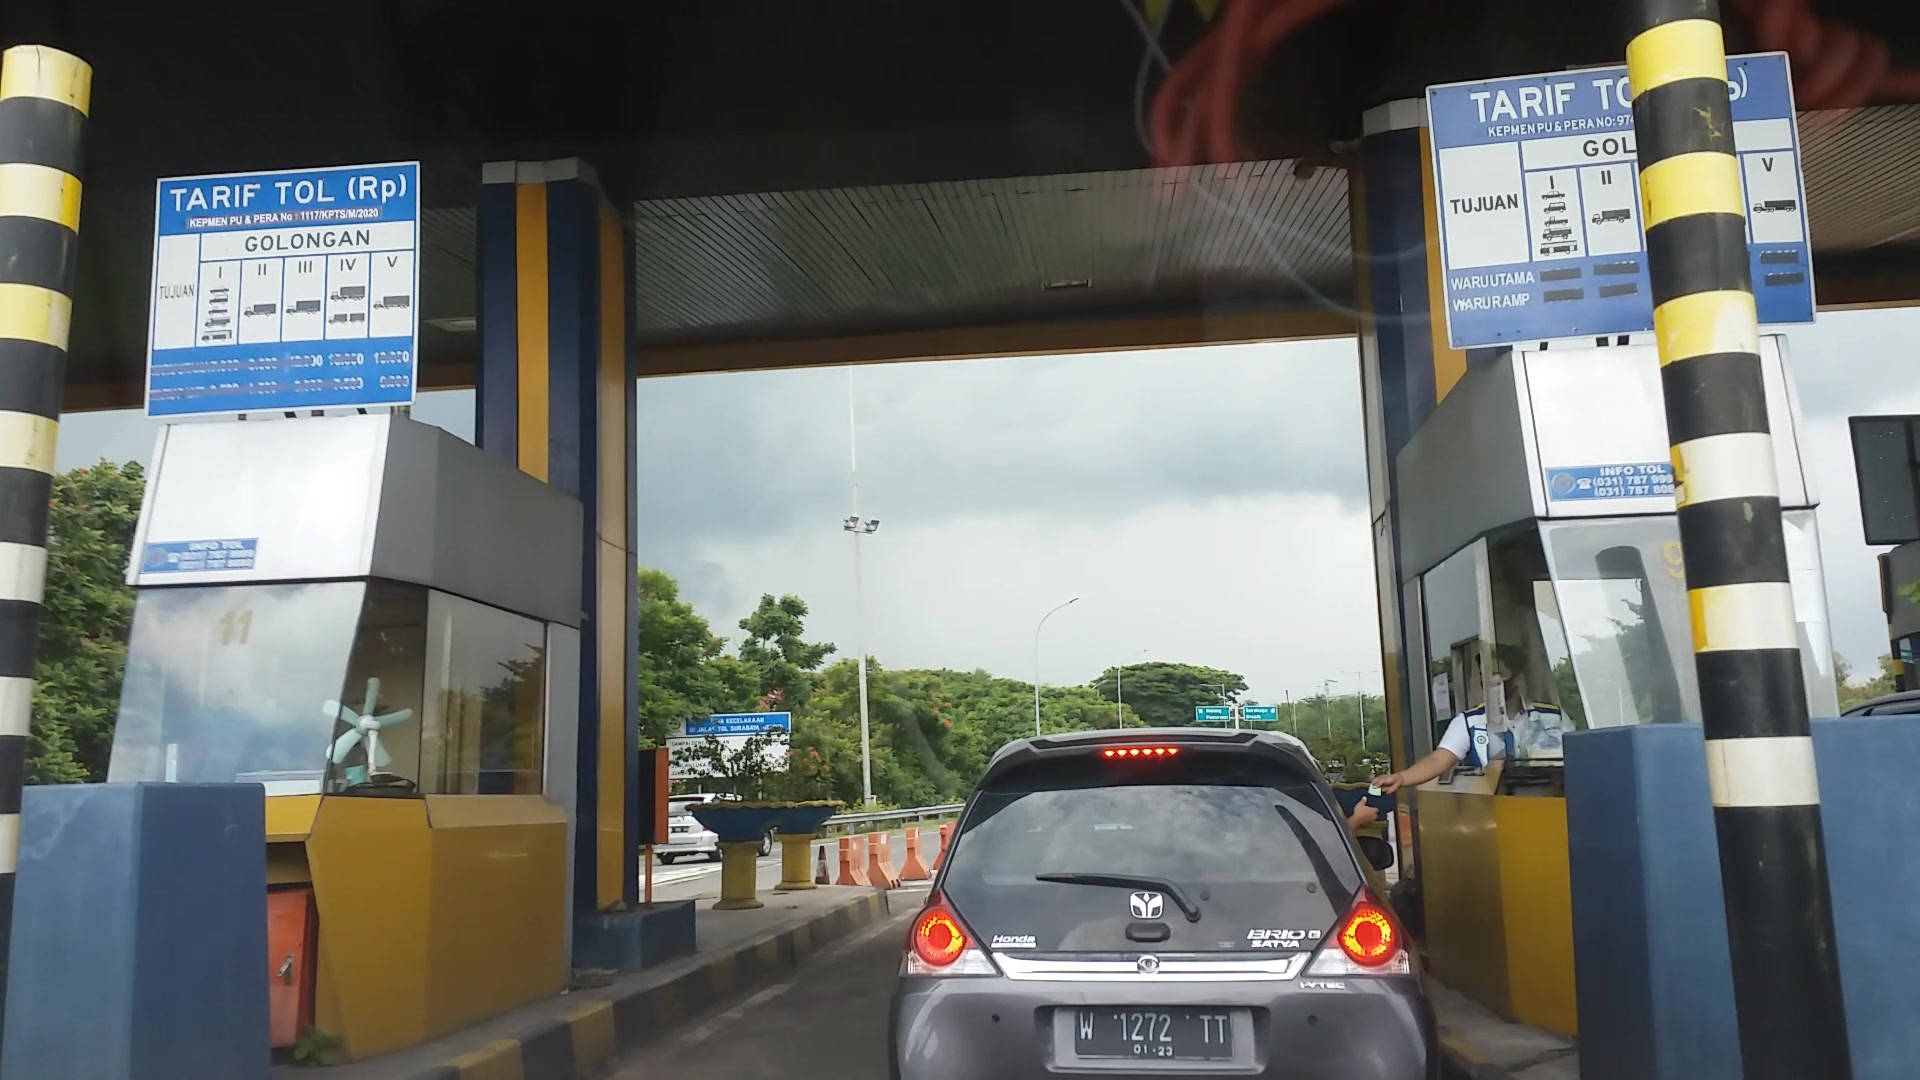plate_positive: (1075, 1005, 1233, 1060)
